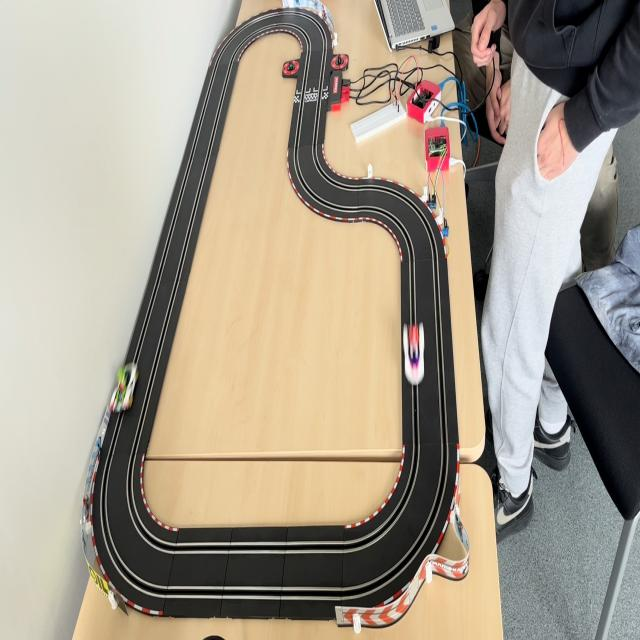mario: (403, 320, 426, 386)
yoshi: (111, 361, 142, 415)
